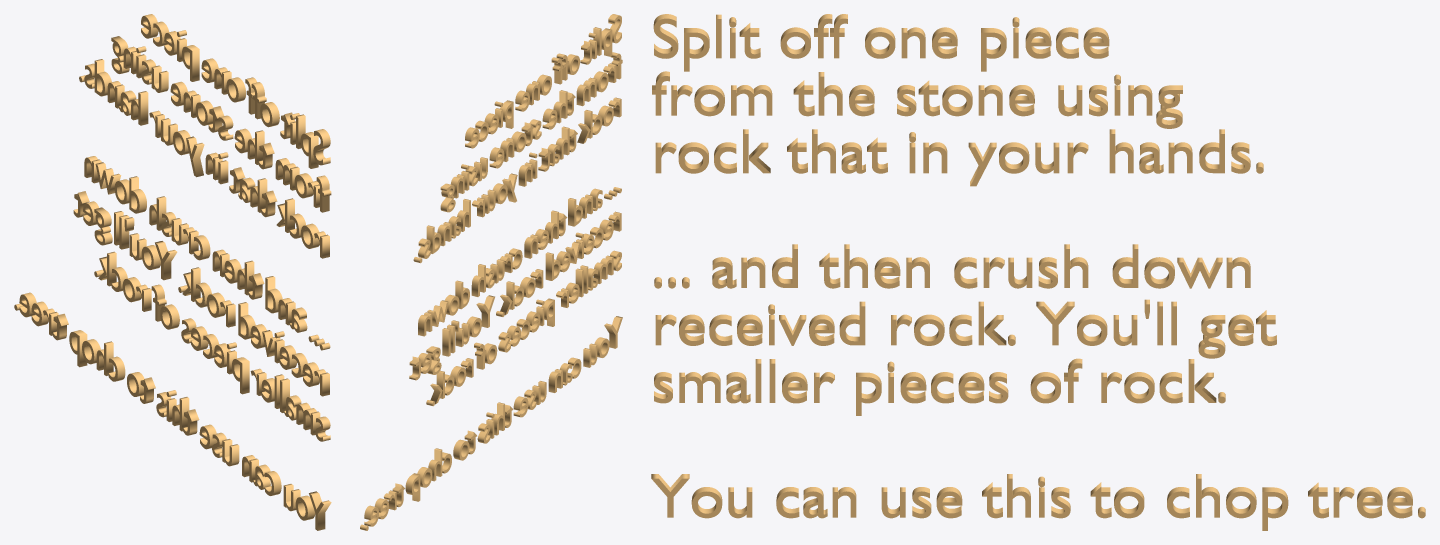
The model's file is second.fbx.
3 views of the same model, side by side, from view 1: azimuth 30°, elevation 25°; view 2: azimuth 150°, elevation 25°; view 3: azimuth 270°, elevation 25° (orthographic). The views are drawn at different scales.
Parts seen in each view (by area): view 1: Text; view 2: Text; view 3: Text.
Boxes of the visible parts, <box> form: Text: <box>14,14,331,530</box>; Text: <box>360,14,622,530</box>; Text: <box>651,14,1425,530</box>.
Bounding box in the file's own units: 17.2 × 892 × 1222.
